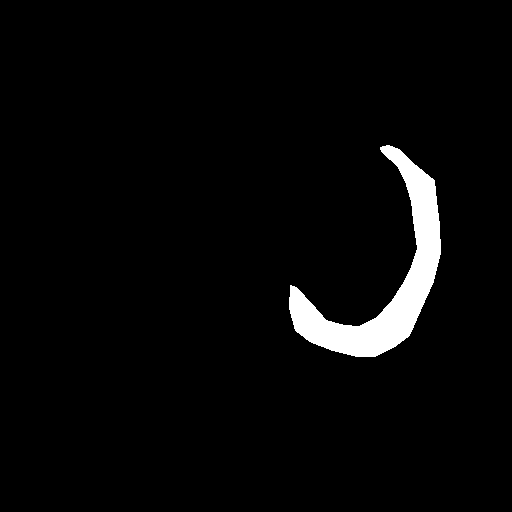Lungs: (288, 142, 444, 358)
